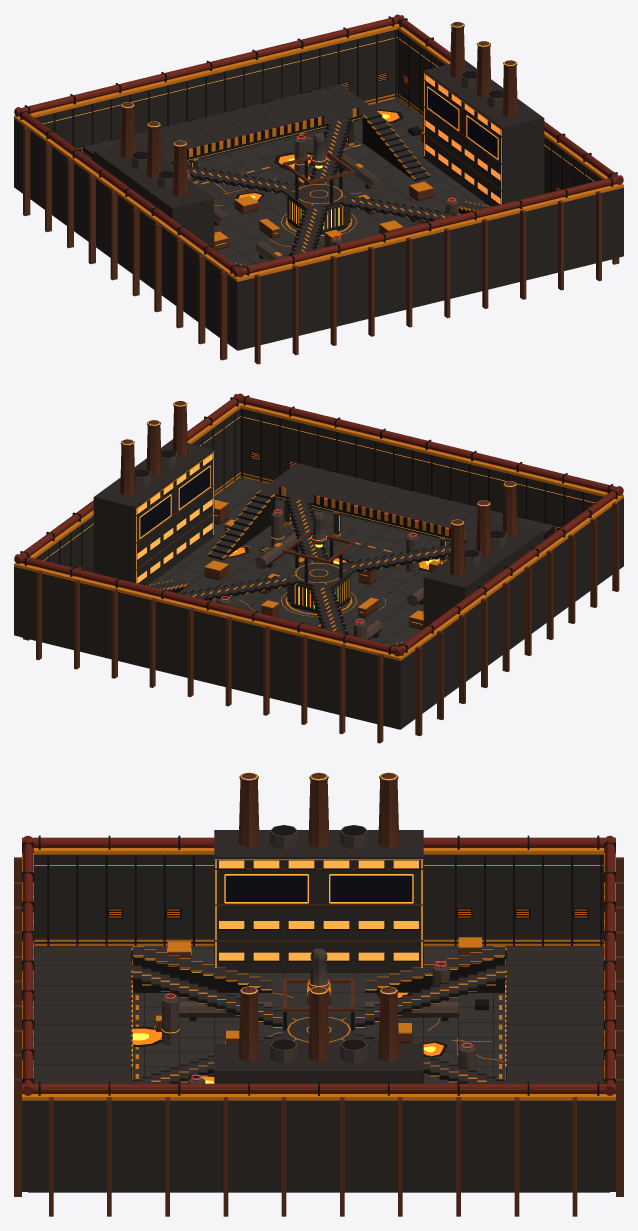
The model's file is arena_magma_low.glb.
The picture shows the model from 3 angles, top to bottom: view 1: azimuth 30°, elevation 25°; view 2: azimuth 150°, elevation 25°; view 3: azimuth 270°, elevation 25°; orthographic projection. The views are drawn at different scales.
Parts seen in each view (by area): view 1: Outer_Walls, Outer_Walls_Decor, Ground, Side_Building_E, Side_Buildings_Decor, Upper_Platform_S, Side_Building_W, Ground_Decor, Stairs_4, Furnace_Tower, Crates, Railings (+11 smaller); view 2: Outer_Walls, Outer_Walls_Decor, Ground, Side_Building_E, Side_Buildings_Decor, Upper_Platform_N, Side_Building_W, Ground_Decor, Crates, Stairs_2, Furnace_Tower, Railings (+11 smaller); view 3: Outer_Walls, Outer_Walls_Decor, Side_Buildings_Decor, Side_Building_W, Ground, Upper_Platform_N, Upper_Platform_S, Side_Building_E, Stairs_1, Ground_Decor, Stairs_3, Bridge_SW (+12 smaller).
Part boxes in pixels (x1,y1,x2,y2): Outer_Walls: (14,24,623,350); Outer_Walls_Decor: (14,14,623,364); Ground: (187,98,617,350); Side_Building_E: (423,60,544,206); Side_Buildings_Decor: (120,21,517,234); Upper_Platform_S: (83,84,377,162); Side_Building_W: (93,141,214,248); Ground_Decor: (187,99,476,265); Stairs_4: (362,111,430,181); Furnace_Tower: (281,180,355,234); Crates: (214,132,433,250); Railings: (173,107,358,160); Outer_Walls: (14,403,623,729); Outer_Walls_Decor: (14,393,623,743); Ground: (20,477,450,729); Side_Building_E: (93,439,214,585); Side_Buildings_Decor: (120,400,517,613); Upper_Platform_N: (260,463,554,541); Side_Building_W: (423,520,544,627); Ground_Decor: (161,478,450,644); Crates: (204,499,440,629); Stairs_2: (207,490,275,560); Furnace_Tower: (282,559,356,613); Railings: (279,486,464,539); Outer_Walls: (22,848,615,1191); Outer_Walls_Decor: (14,835,623,1216); Side_Buildings_Decor: (214,772,423,1063); Side_Building_W: (214,830,423,972); Ground: (28,946,609,1192); Upper_Platform_N: (34,946,132,1083); Upper_Platform_S: (505,946,603,1083); Side_Building_E: (214,1044,423,1083); Stairs_1: (132,946,272,992); Ground_Decor: (133,946,504,1083); Stairs_3: (365,946,505,992); Bridge_SW: (355,964,505,1027).
Size of what is drawn, in the model's own units: 52.4 by 19.41 by 52.4.
